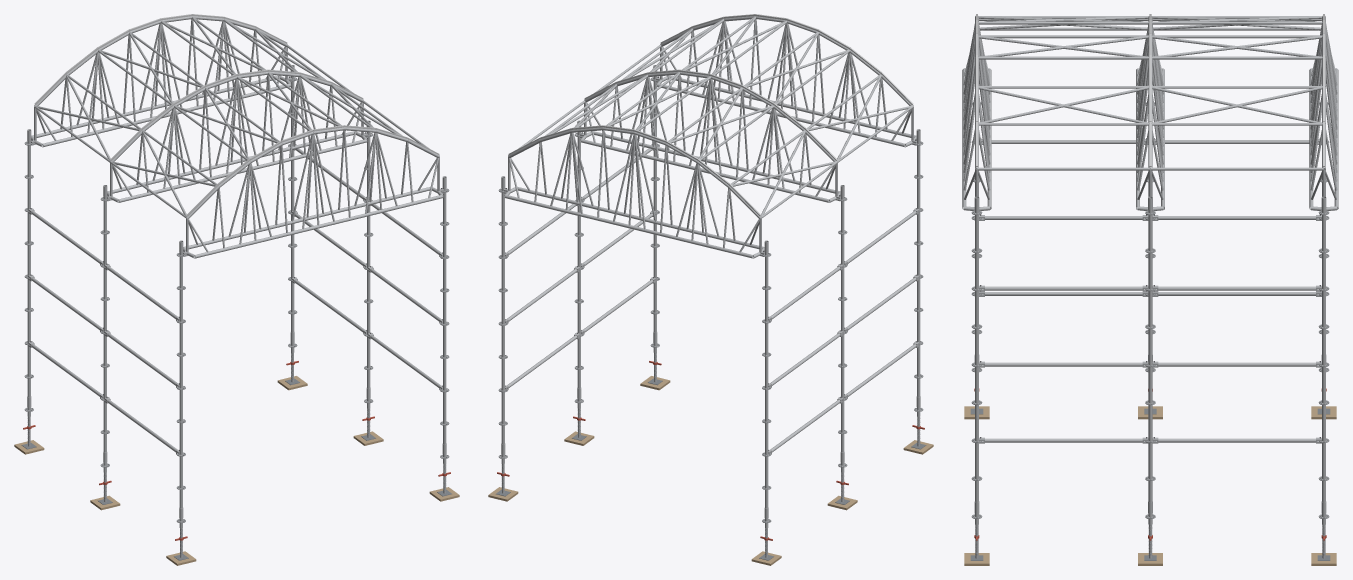
The model's file is demo_keder_roof_4140x4140.glb.
3 views of the same model, side by side, from view 1: azimuth 30°, elevation 25°; view 2: azimuth 150°, elevation 25°; view 3: azimuth 270°, elevation 25° (orthographic). The views are drawn at different scales.
Visible parts, largest first — view 1: demo_keder_roof_4140x4140; view 2: demo_keder_roof_4140x4140; view 3: demo_keder_roof_4140x4140.
Part boxes in pixels (left/top/right/bottom): demo_keder_roof_4140x4140: left=14, top=14, right=459, bottom=565; demo_keder_roof_4140x4140: left=488, top=14, right=933, bottom=565; demo_keder_roof_4140x4140: left=962, top=14, right=1338, bottom=565.
Size of the model in its own units: 4.44 by 5.97 by 4.49.
